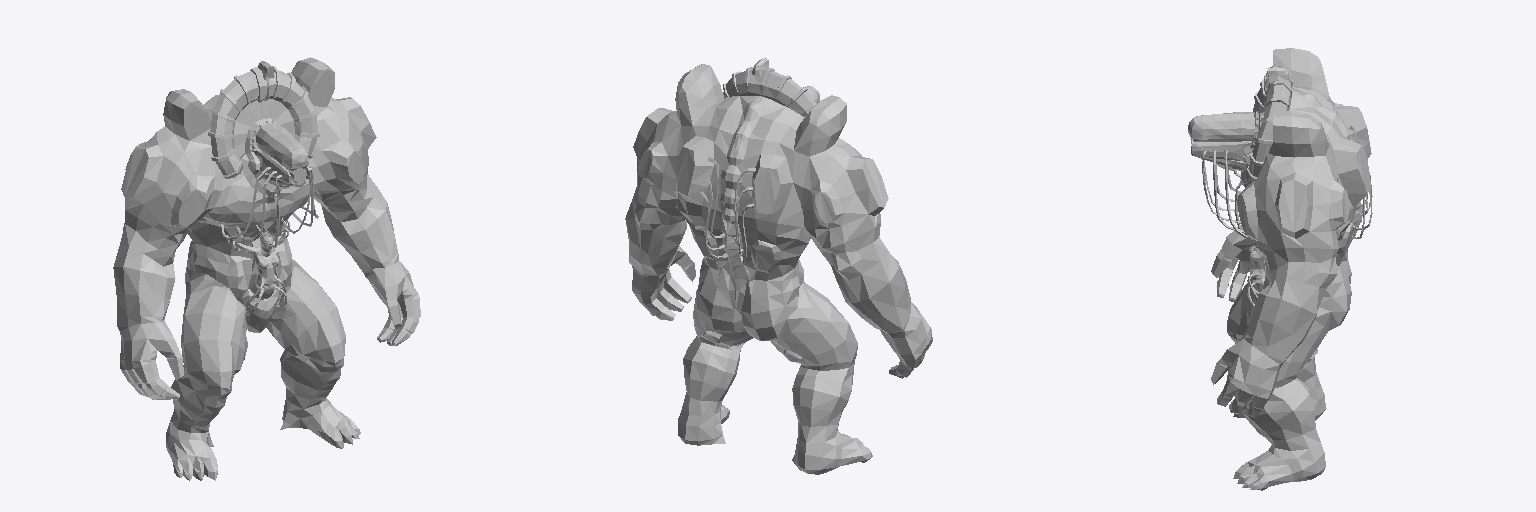
Rendered from BOSS_Titan.obj.
3 views of the same model, side by side, from view 1: azimuth 30°, elevation 25°; view 2: azimuth 150°, elevation 25°; view 3: azimuth 270°, elevation 25° (orthographic).
Parts seen in each view (by area): view 1: Titan_[local-path]\Do; view 2: Titan_[local-path]\Do; view 3: Titan_[local-path]\Do.
Part boxes in pixels (left/top/right/bottom): Titan_[local-path]\Do: left=113, top=57, right=420, bottom=480; Titan_[local-path]\Do: left=625, top=57, right=932, bottom=474; Titan_[local-path]\Do: left=1188, top=48, right=1372, bottom=490.
Size of the model in its own units: 3.4 by 4.38 by 1.91.